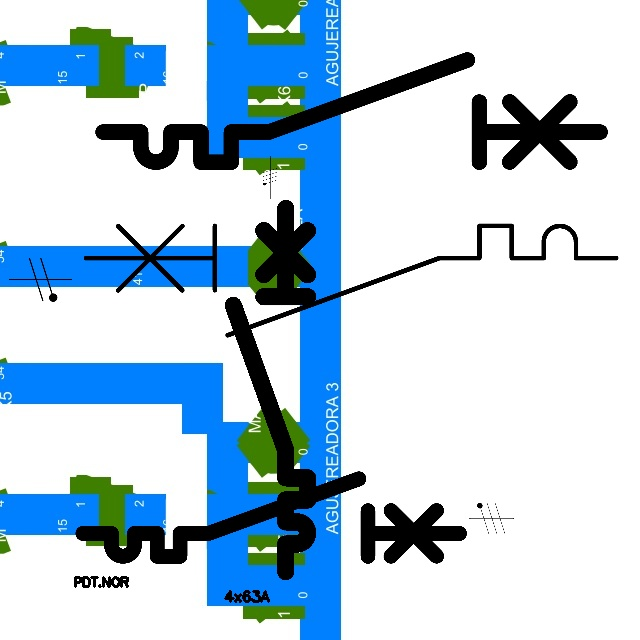interruptor_termomagnetico: (72, 212, 630, 348), (90, 47, 613, 175), (73, 469, 469, 566), (224, 199, 317, 581)
